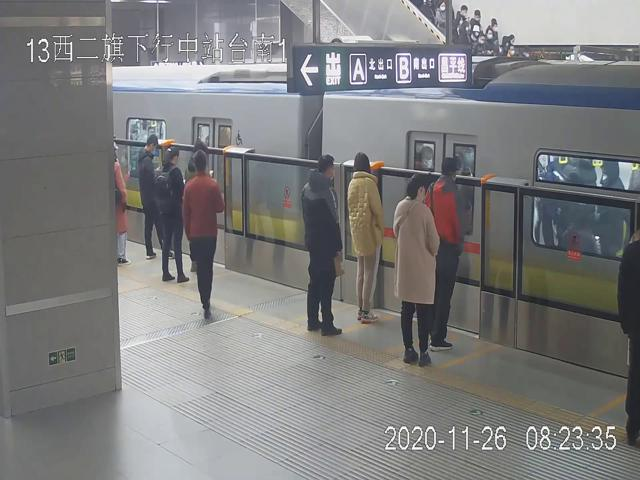person: (393, 173, 440, 368), (423, 156, 465, 348), (301, 155, 345, 337), (182, 150, 225, 319), (346, 151, 383, 323), (161, 146, 191, 282), (138, 133, 164, 260)
